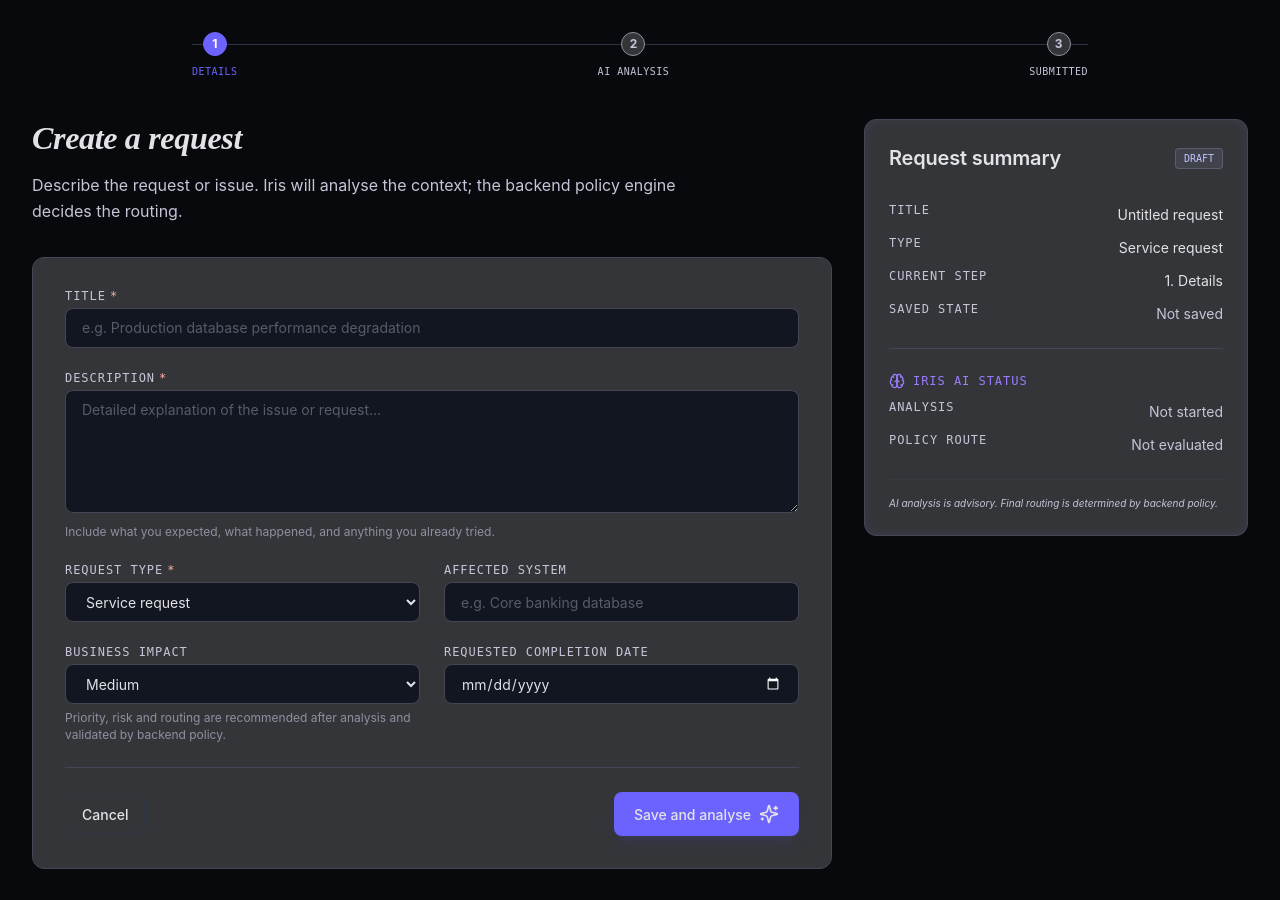
Test: CreateRequestPage › blocks the submit until the required fields are valid
The width and height of the screenshot is (1280, 900).
Click the button "Save and analyse" at x=706, y=814, box [614,792,799,836]
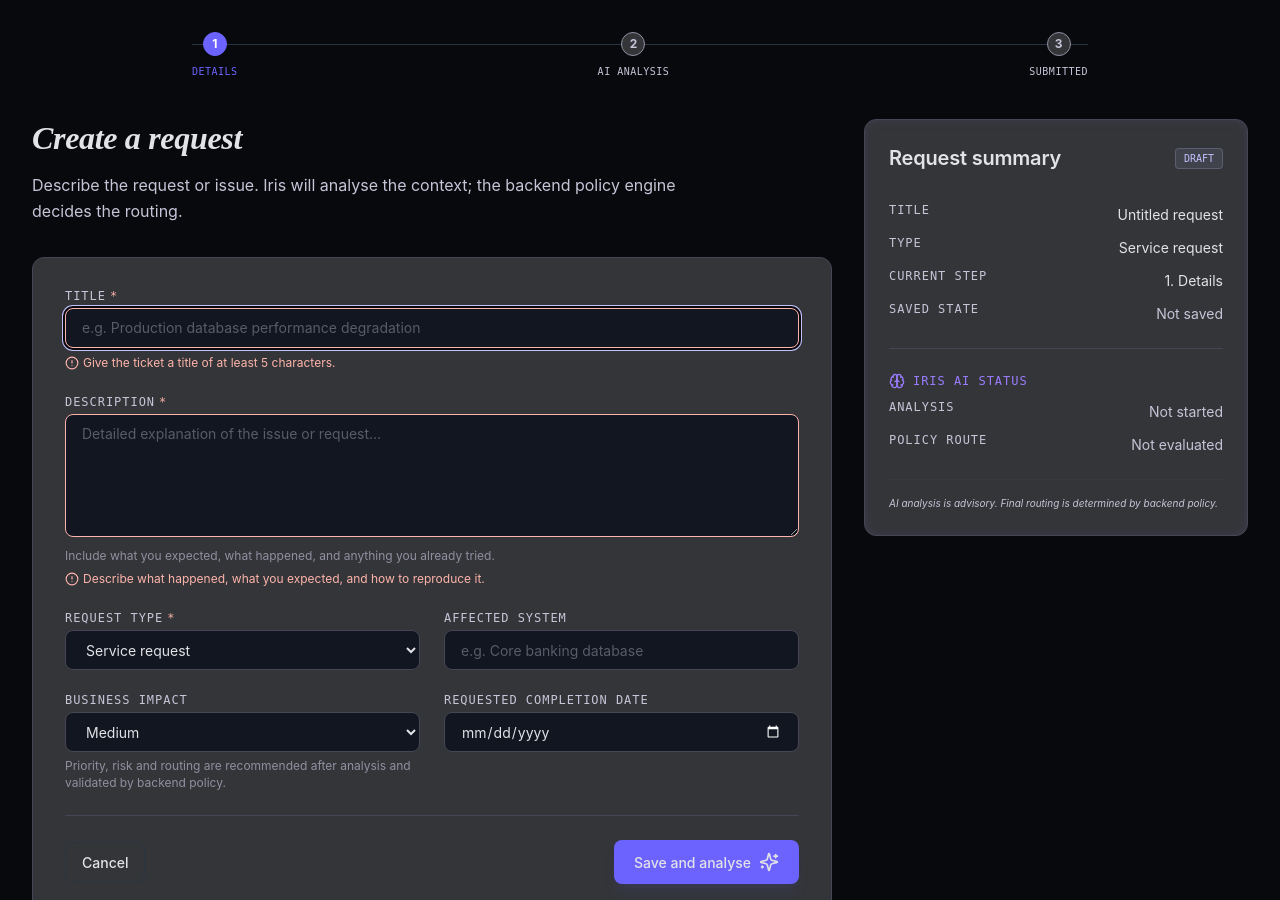
Result: the text "Give the ticket a title of at least 5 characters." is shown at [65,355,335,370]
Result: the text "Describe what happened, what you expected, and how to reproduce it." is shown at [65,571,485,586]
